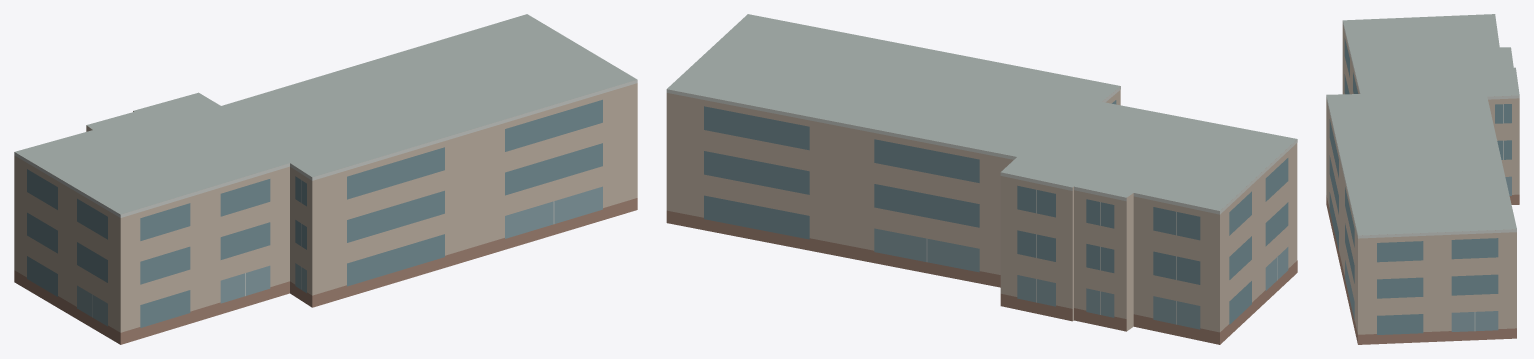
Rendered from survey-upis-32630099.glb.
3 views of the same model, side by side, from view 1: azimuth 30°, elevation 25°; view 2: azimuth 150°, elevation 25°; view 3: azimuth 270°, elevation 25° (orthographic). The views are drawn at different scales.
Visible parts, largest first — view 1: survey-upis-32630099.tmp; view 2: survey-upis-32630099.tmp; view 3: survey-upis-32630099.tmp.
Boxes of the visible parts, box(x1,y1,x2,y2) form: survey-upis-32630099.tmp: box(14, 14, 637, 344); survey-upis-32630099.tmp: box(666, 14, 1297, 344); survey-upis-32630099.tmp: box(1326, 14, 1519, 344).
Bounding box in the file's own units: 39.8 × 9.15 × 14.69.
